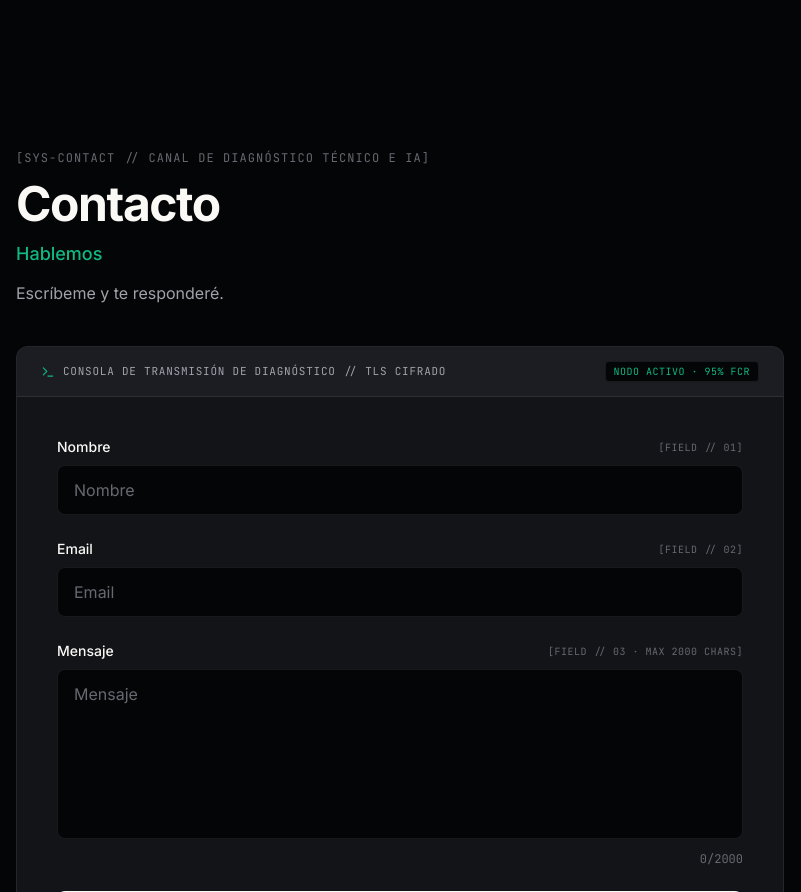
ContactForm Component › should show loading state during submission
Type "Test User" into the field labelled "Nombre" at [400, 490], box [57, 465, 743, 515]
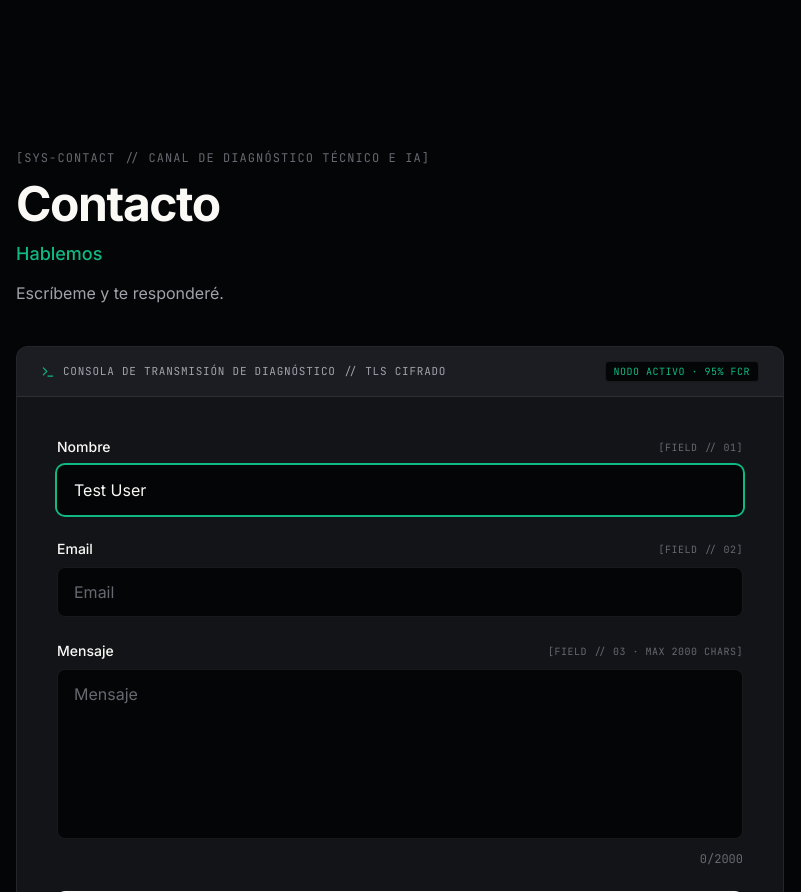
Type "test@example.com" into the field labelled "Email" at [400, 592], box [57, 567, 743, 617]
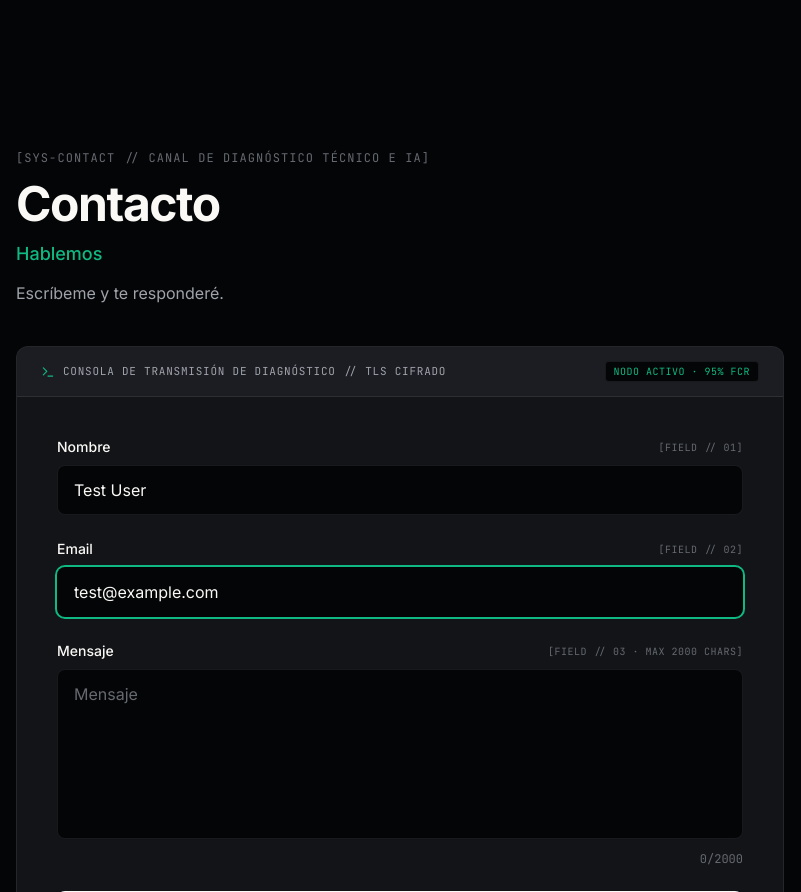
Type "This is a test message with enough characters" into the text box labelled "Mensaje" at [400, 754], box [57, 669, 743, 839]
(page scrolled)
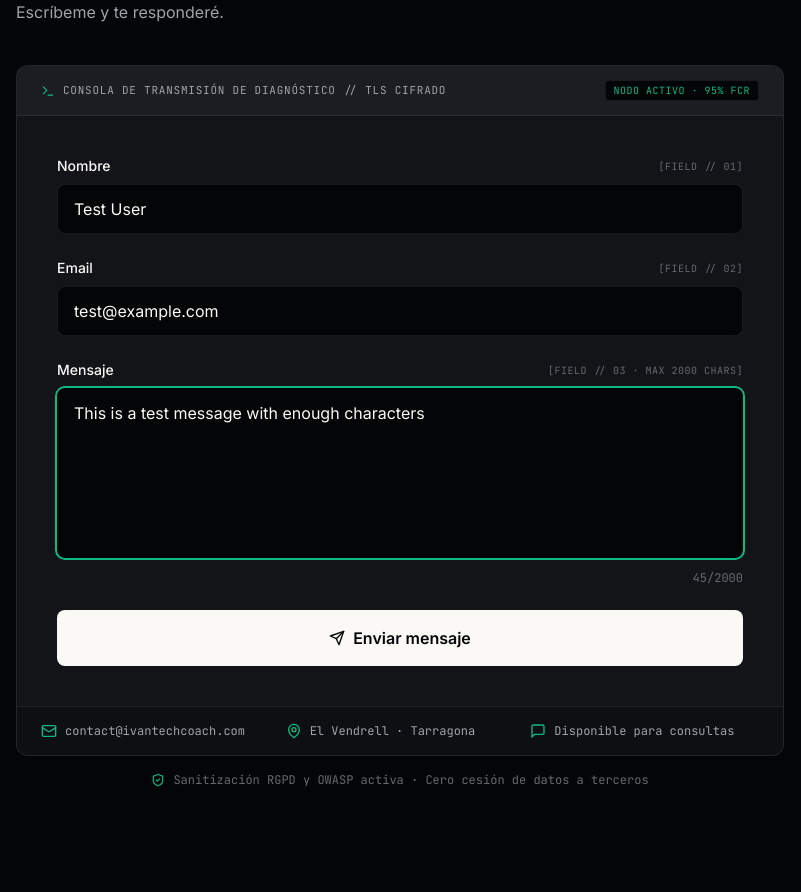
Click the button "Enviar mensaje" at [400, 638], box [57, 610, 743, 666]
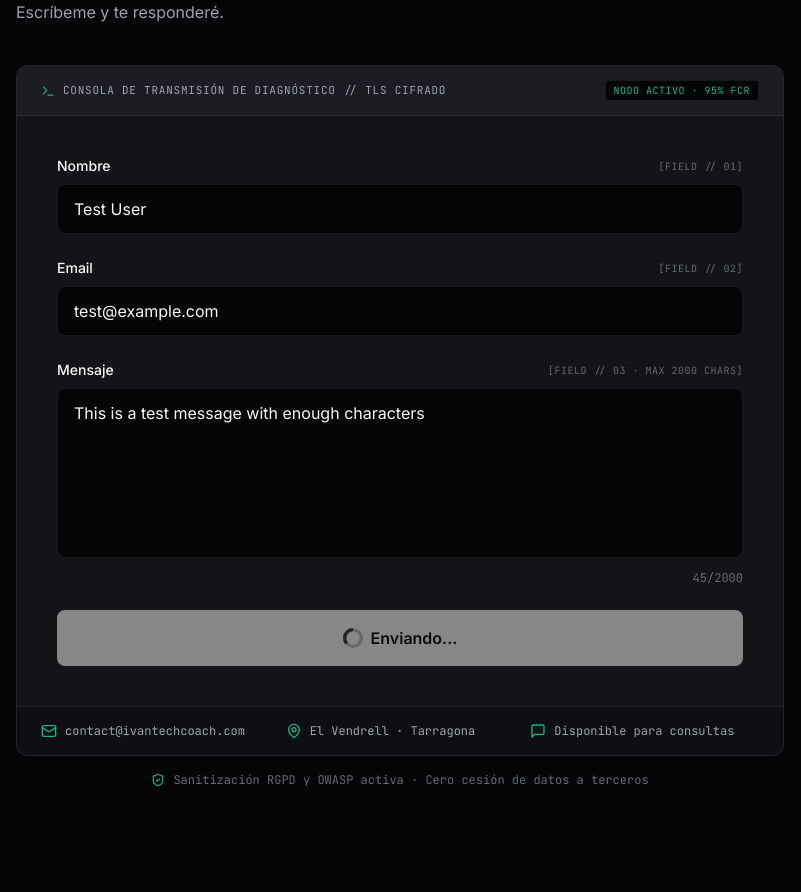
Result: the button "Enviando..." is disabled at [57, 610, 743, 666]
